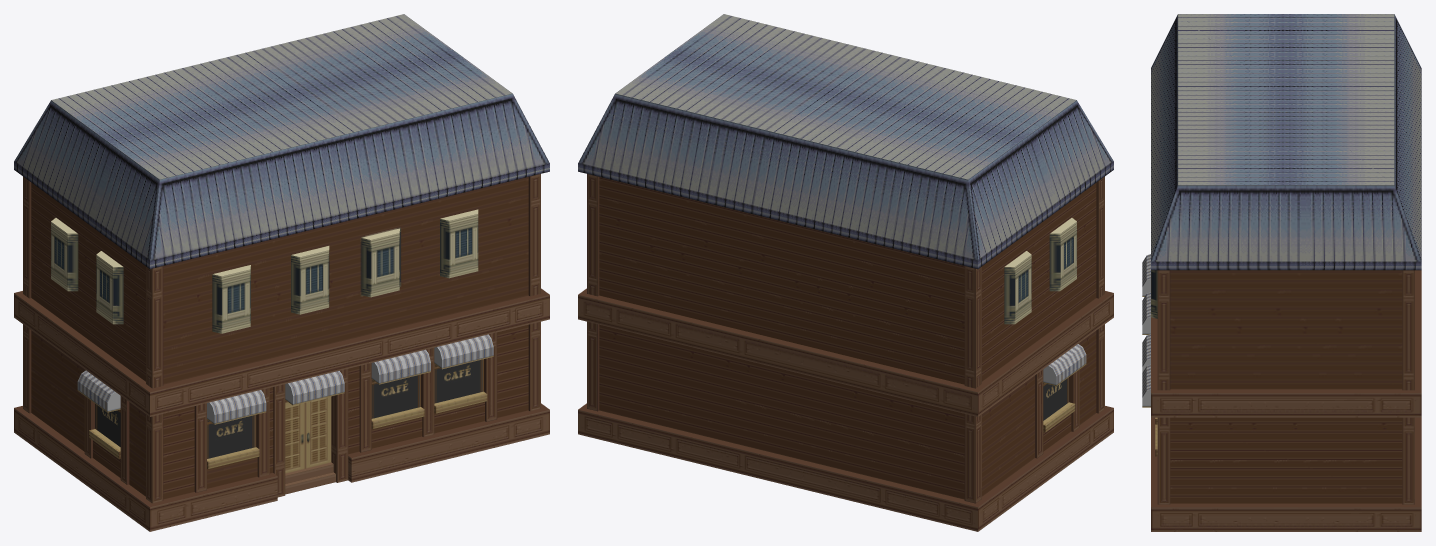
File: Cafe.fbx
3 renders of one model, left to right at view 1: azimuth 30°, elevation 25°; view 2: azimuth 150°, elevation 25°; view 3: azimuth 270°, elevation 25°, orthographic.
Visible parts, largest first — view 1: cafe; view 2: cafe; view 3: cafe.
Boxes of the visible parts, box(x1,y1,x2,y2) form: cafe: box(14, 14, 549, 531); cafe: box(578, 14, 1113, 531); cafe: box(1142, 14, 1421, 531).
Size of the model in its own units: 51.94 by 41 by 30.94.
